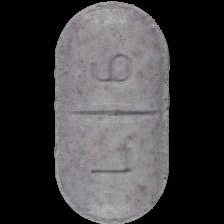54868-2539: (0, 0, 224, 224)
